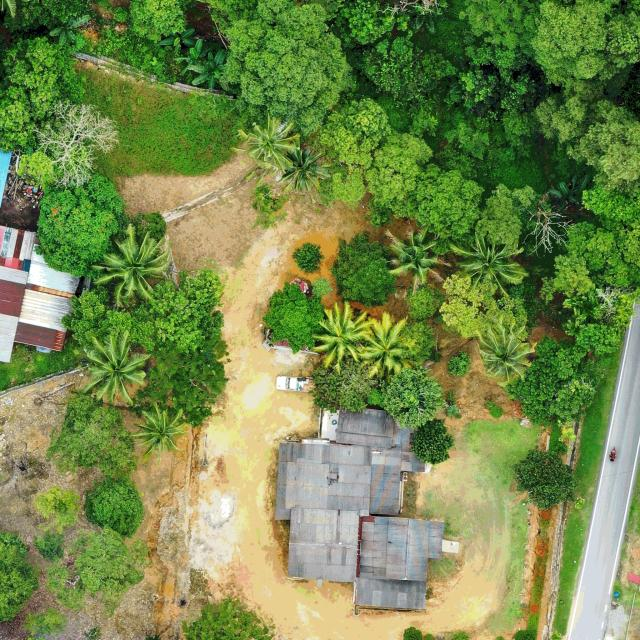0: (94, 224, 170, 307), (72, 330, 149, 405), (449, 228, 528, 296), (310, 300, 370, 374), (380, 225, 442, 287), (358, 312, 413, 378), (132, 402, 190, 462), (238, 114, 300, 166), (273, 142, 333, 195), (477, 326, 534, 381)
banana_tree2: (190, 49, 231, 92), (174, 39, 213, 75), (50, 15, 90, 48), (158, 27, 198, 55)
kelapa_sawit: (261, 282, 313, 354)
tree: (223, 0, 358, 137), (528, 0, 640, 102), (34, 171, 123, 279), (47, 527, 149, 618), (535, 96, 640, 180), (502, 336, 600, 425), (28, 99, 116, 189), (148, 335, 230, 427), (360, 34, 460, 104), (366, 131, 435, 227), (147, 269, 225, 350), (62, 285, 150, 352), (414, 165, 485, 239), (330, 232, 398, 308), (322, 96, 392, 166), (441, 274, 515, 340), (379, 366, 447, 428), (82, 474, 146, 536), (515, 448, 578, 510), (475, 185, 537, 248), (307, 364, 376, 414), (128, 0, 189, 38), (411, 418, 456, 467), (403, 319, 438, 365), (404, 283, 442, 319), (292, 240, 323, 274)
